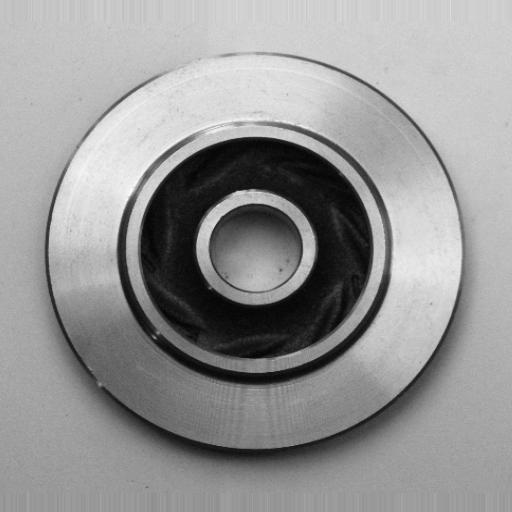scratch: (182, 106, 278, 144)
unpolished_casting: (44, 47, 467, 465)
